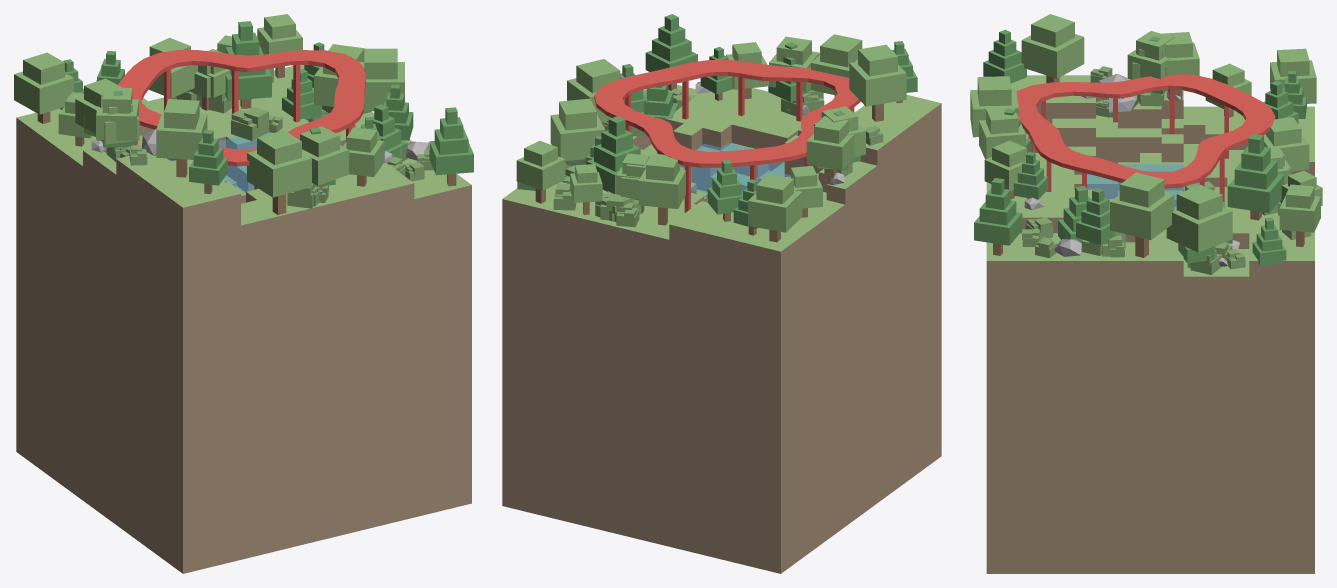
Rendered from block_25_wetlands_100.glb.
3 renders of one model, left to right at view 1: azimuth 30°, elevation 25°; view 2: azimuth 150°, elevation 25°; view 3: azimuth 270°, elevation 25°, orthographic. The views are drawn at different scales.
Parts seen in each view (by area): view 1: Patch_UpperRight_b25_WL, WL_Walk_25, WL_Clu_25_022, WL_Clu_25_027, WL_Clu_25_016, WL_Clu_25_049, WL_Clu_25_067, WL_Clu_25_055, WL_Clu_25_020, WL_Clu_25_007, WL_Clu_25_044, WL_Clu_25_011 (+12 smaller); view 2: Patch_UpperRight_b25_WL, WL_Walk_25, WL_Clu_25_016, WL_Clu_25_027, WL_Clu_25_071, WL_Clu_25_043, WL_Clu_25_005, WL_Clu_25_080, WL_Clu_25_067, WL_Clu_25_049, WL_Clu_25_022, WL_Clu_25_055 (+13 smaller); view 3: Patch_UpperRight_b25_WL, WL_Walk_25, WL_Clu_25_055, WL_Clu_25_071, WL_Clu_25_016, WL_Clu_25_067, WL_Clu_25_049, WL_Clu_25_080, WL_Clu_25_022, WL_Clu_25_043, WL_Clu_25_020, WL_Clu_25_027 (+13 smaller).
Part boxes in pixels (bbox=[...]): Patch_UpperRight_b25_WL: bbox=[16, 65, 471, 573]; WL_Walk_25: bbox=[118, 50, 365, 166]; WL_Clu_25_022: bbox=[247, 130, 311, 214]; WL_Clu_25_027: bbox=[14, 52, 73, 123]; WL_Clu_25_016: bbox=[156, 99, 207, 177]; WL_Clu_25_049: bbox=[429, 107, 473, 186]; WL_Clu_25_067: bbox=[225, 21, 271, 108]; WL_Clu_25_055: bbox=[359, 48, 404, 111]; WL_Clu_25_020: bbox=[300, 126, 348, 189]; WL_Clu_25_007: bbox=[96, 87, 138, 140]; WL_Clu_25_044: bbox=[343, 127, 383, 186]; WL_Clu_25_011: bbox=[189, 129, 227, 194]; Patch_UpperRight_b25_WL: bbox=[502, 84, 941, 573]; WL_Walk_25: bbox=[594, 59, 860, 212]; WL_Clu_25_016: bbox=[849, 44, 906, 121]; WL_Clu_25_027: bbox=[748, 174, 802, 242]; WL_Clu_25_071: bbox=[550, 98, 605, 161]; WL_Clu_25_043: bbox=[638, 153, 685, 225]; WL_Clu_25_005: bbox=[806, 116, 854, 185]; WL_Clu_25_080: bbox=[516, 140, 565, 203]; WL_Clu_25_067: bbox=[586, 116, 640, 193]; WL_Clu_25_049: bbox=[645, 14, 697, 90]; WL_Clu_25_022: bbox=[811, 34, 862, 96]; WL_Clu_25_055: bbox=[567, 59, 624, 128]; Patch_UpperRight_b25_WL: bbox=[986, 75, 1314, 573]; WL_Walk_25: bbox=[1016, 74, 1275, 201]; WL_Clu_25_055: bbox=[1110, 172, 1174, 257]; WL_Clu_25_071: bbox=[1166, 185, 1232, 252]; WL_Clu_25_016: bbox=[1021, 14, 1084, 83]; WL_Clu_25_067: bbox=[1227, 133, 1284, 220]; WL_Clu_25_049: bbox=[974, 178, 1022, 255]; WL_Clu_25_080: bbox=[1279, 184, 1320, 246]; WL_Clu_25_022: bbox=[970, 76, 1018, 137]; WL_Clu_25_043: bbox=[1264, 117, 1309, 171]; WL_Clu_25_020: bbox=[979, 106, 1025, 159]; WL_Clu_25_027: bbox=[1270, 48, 1316, 103].
Bounding box in the file's own units: 10.18 × 13.66 × 10.21.
